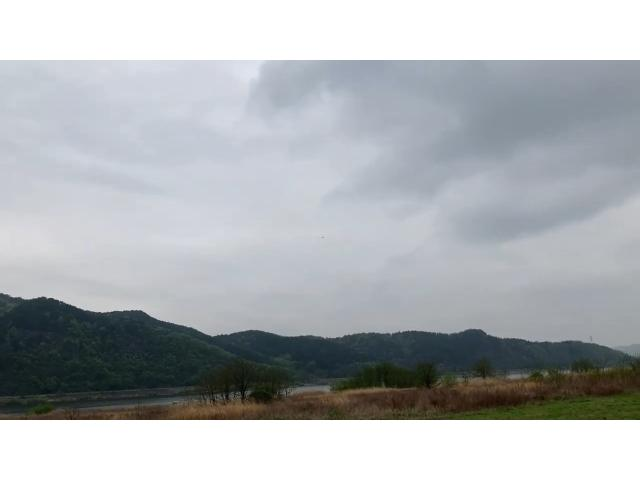Anti-Drone: (316, 231, 340, 247)
